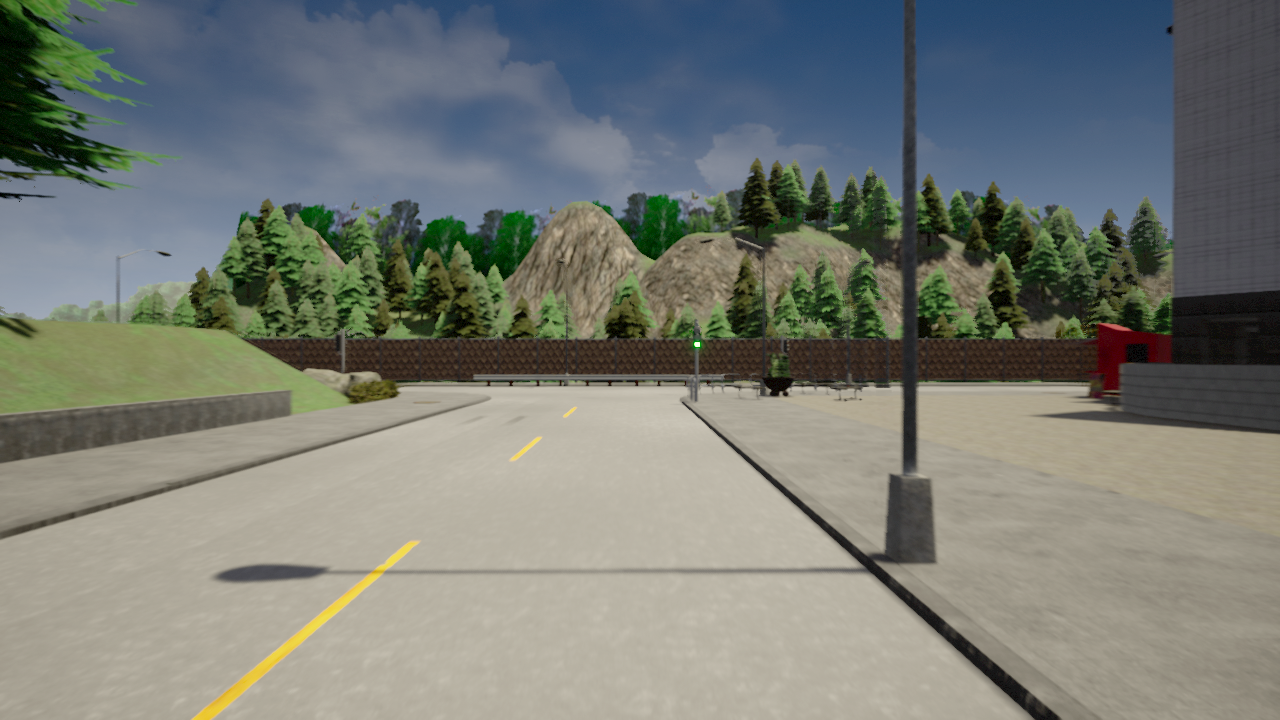green: (693, 325, 702, 348)
